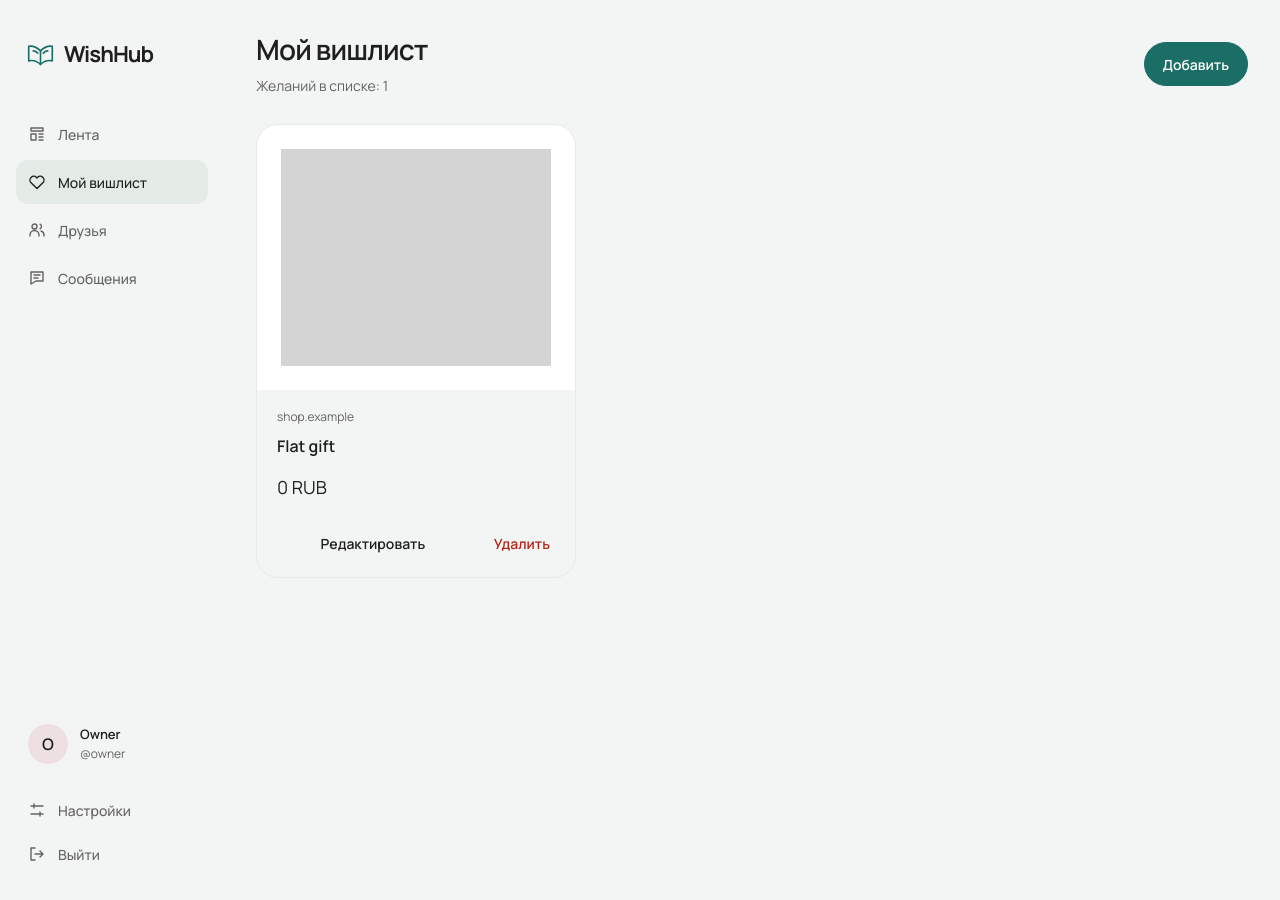
Test: WishlistPage › preserves the card and shows an error when deletion fails
The width and height of the screenshot is (1280, 900).
Click the button "Удалить" at {"x": 522, "y": 543}, box [481,521,563,565]
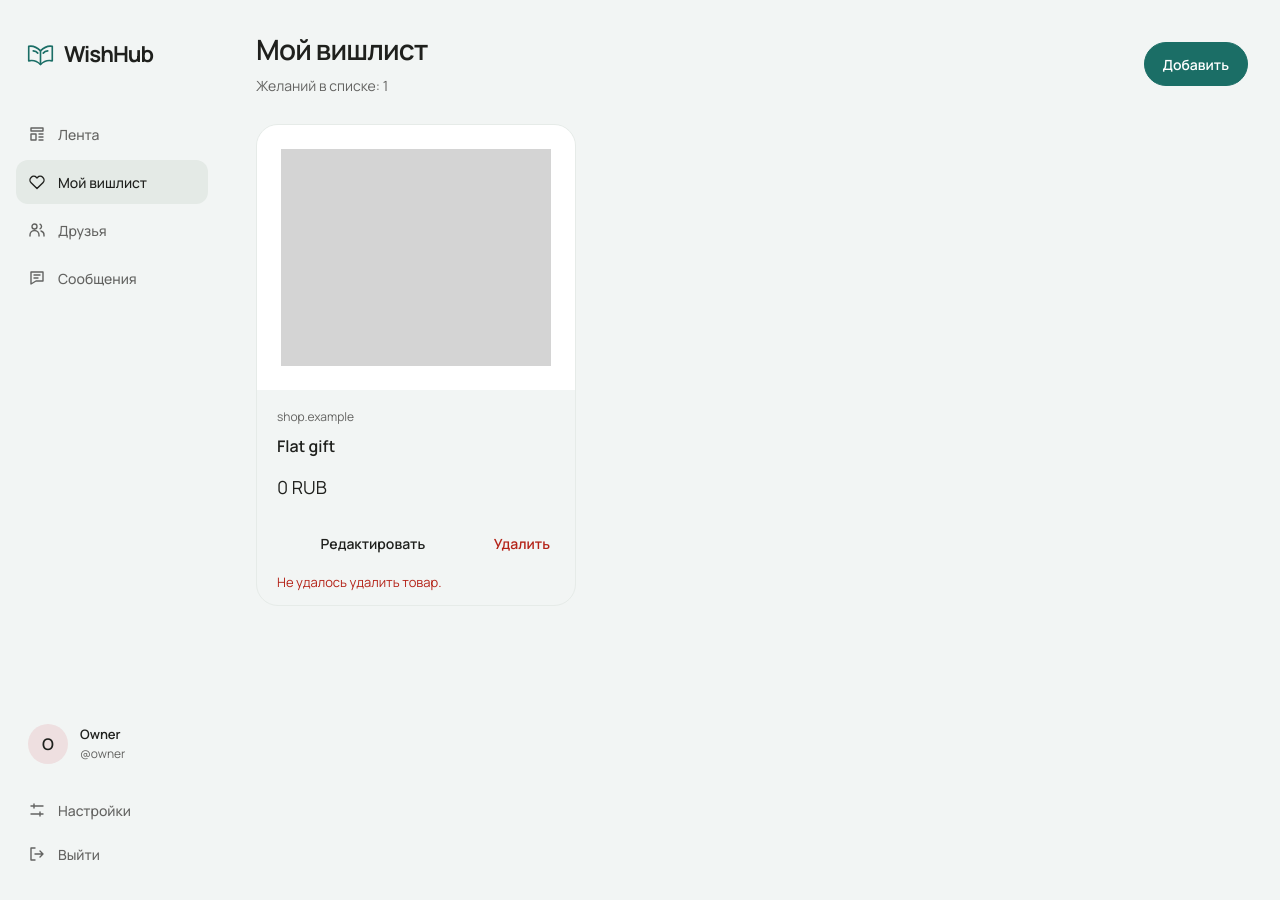
Check: the heading "Flat gift" is shown, box [277,435,335,457]
Check: the message reads "Не удалось удалить товар.", box [277,573,442,591]
